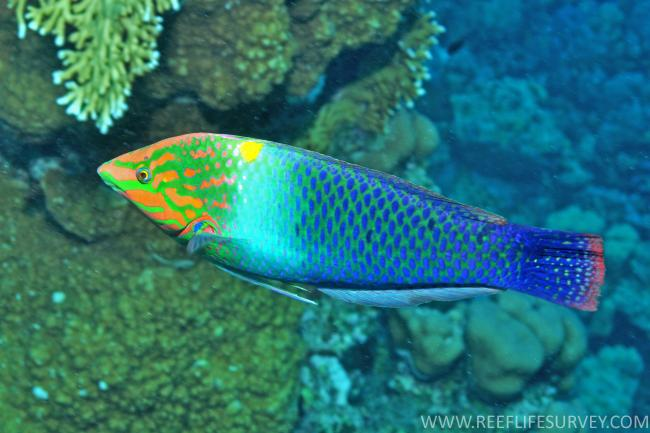fish: (96, 131, 608, 313)
